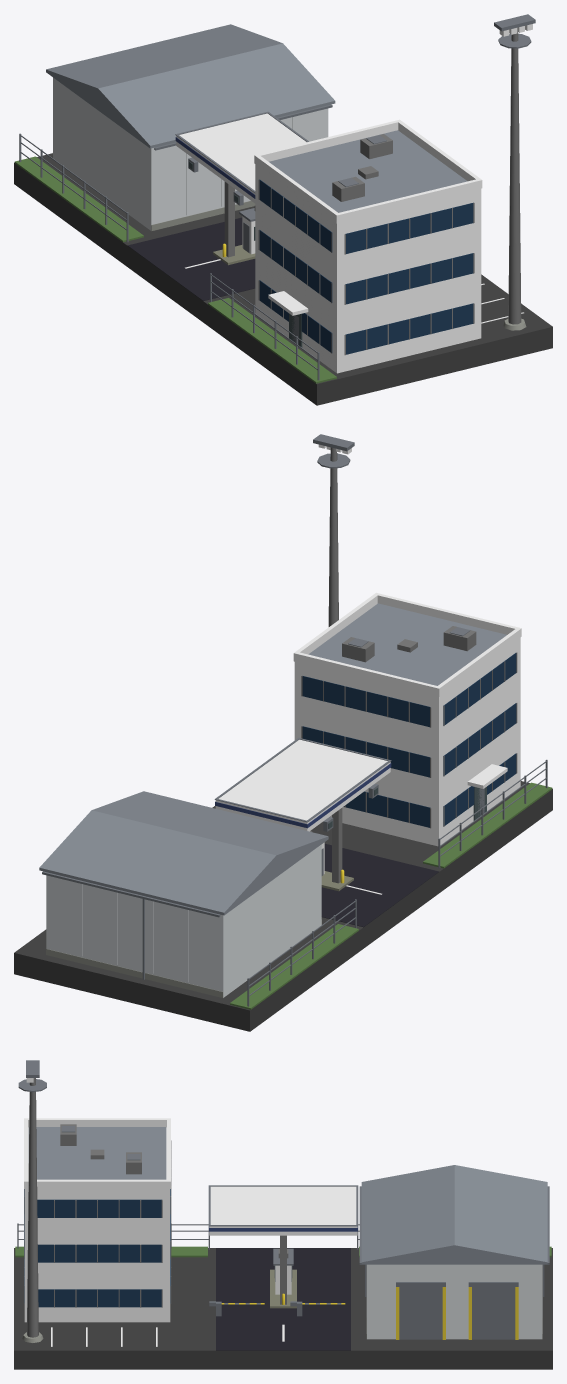
Rendered from port_building_close.fbx.
The picture shows the model from 3 angles, top to bottom: view 1: azimuth 30°, elevation 25°; view 2: azimuth 150°, elevation 25°; view 3: azimuth 270°, elevation 25°; orthographic projection. The views are drawn at different scales.
Visible parts, largest first — view 1: a403_0_port_building_close; view 2: a403_0_port_building_close; view 3: a403_0_port_building_close.
Part boxes in pixels (left/top/right/bottom): a403_0_port_building_close: left=14, top=14, right=552, bottom=405; a403_0_port_building_close: left=14, top=434, right=552, bottom=1031; a403_0_port_building_close: left=14, top=1060, right=552, bottom=1369.
Size of the model in its own units: 18 by 23.75 by 40.
